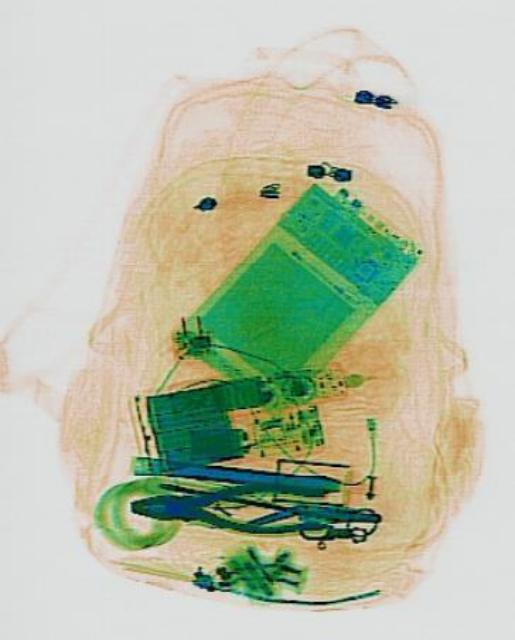Pliers: (128, 478, 323, 534)
